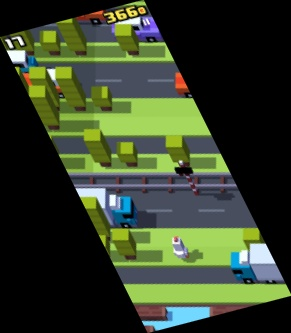car: (111, 12, 170, 42), (15, 68, 70, 98), (175, 68, 222, 98), (62, 1, 109, 24), (1, 50, 39, 74)
duck: (170, 235, 190, 263)
light off: (173, 160, 200, 197)
log: (210, 306, 257, 318), (131, 306, 170, 320), (136, 325, 157, 333)
rail: (64, 170, 246, 195)
tree: (55, 66, 88, 113), (78, 197, 112, 242), (30, 67, 62, 112), (28, 85, 59, 131), (58, 14, 87, 56), (84, 128, 114, 167), (166, 135, 192, 168), (9, 22, 33, 55), (111, 227, 135, 260), (115, 24, 140, 55), (242, 228, 267, 255), (90, 235, 113, 260), (40, 30, 61, 56), (118, 141, 138, 167), (92, 87, 112, 112)
truck: (231, 243, 291, 283)
